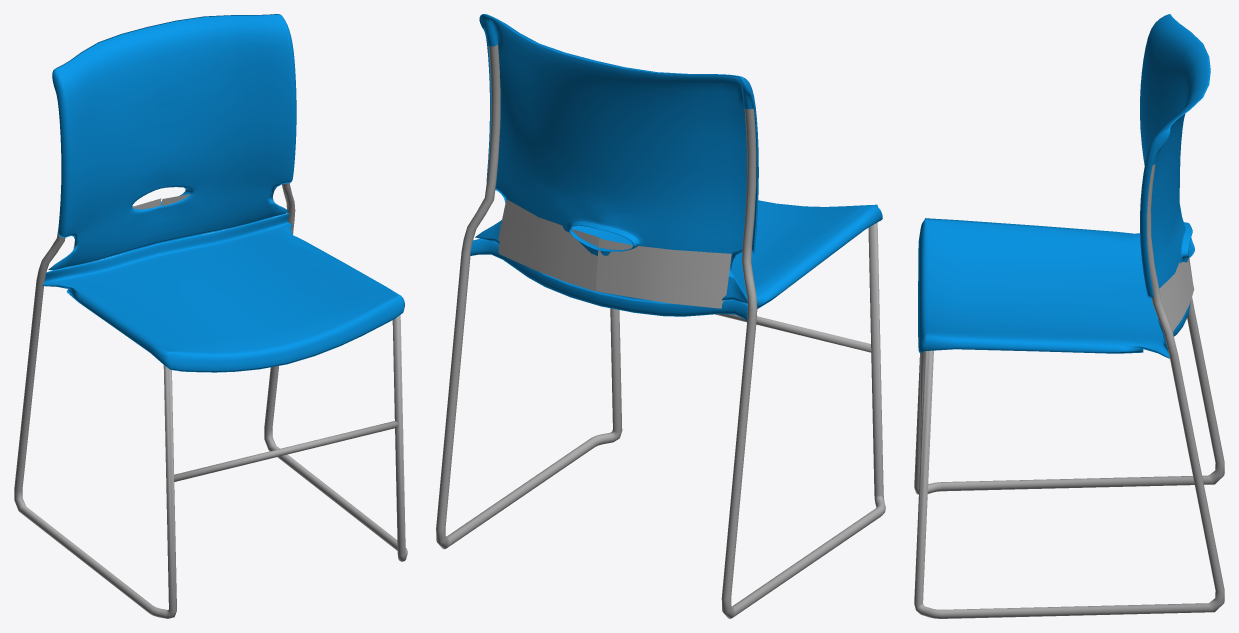
File: Blue_Chair.fbx
3 views of the same model, side by side, from view 1: azimuth 30°, elevation 25°; view 2: azimuth 150°, elevation 25°; view 3: azimuth 270°, elevation 25° (orthographic). The views are drawn at different scales.
Visible parts, largest first — view 1: Blue_chair; view 2: Blue_chair; view 3: Blue_chair.
Part boxes in pixels (x1=…): Blue_chair: x1=14, y1=14, x2=407, y2=618; Blue_chair: x1=436, y1=14, x2=885, y2=618; Blue_chair: x1=914, y1=14, x2=1224, y2=618.
Bounding box in the file's own units: 45.72 × 78.67 × 45.72.
